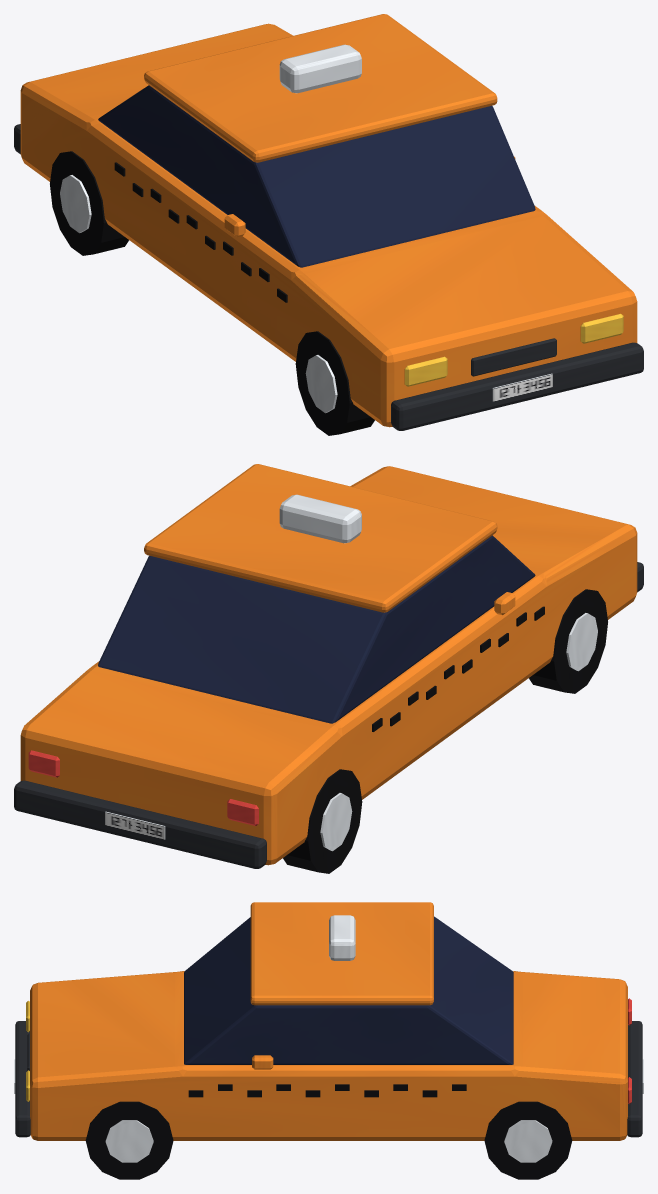
Rendered from ParkedCar_Taxi.glb.
The picture shows the model from 3 angles, top to bottom: view 1: azimuth 30°, elevation 25°; view 2: azimuth 150°, elevation 25°; view 3: azimuth 270°, elevation 25°; orthographic projection. The views are drawn at different scales.
Visible parts, largest first — view 1: Body, Glass, Details, Wheels, TaxiSign; view 2: Body, Glass, Details, Wheels, TaxiSign; view 3: Body, Glass, Wheels, Details, TaxiSign.
Part boxes in pixels (<box>): Body: <box>20,14,637,427</box>; Glass: <box>98,85,535,267</box>; Details: <box>14,124,643,430</box>; Wheels: <box>50,151,374,435</box>; TaxiSign: <box>114,44,361,302</box>; Body: <box>20,464,637,865</box>; Glass: <box>98,535,535,723</box>; Details: <box>14,562,643,868</box>; Wheels: <box>283,589,607,873</box>; TaxiSign: <box>279,494,544,731</box>; Body: <box>30,902,627,1140</box>; Glass: <box>184,916,513,1064</box>; Wheels: <box>85,1101,572,1179</box>; Details: <box>14,998,643,1137</box>; TaxiSign: <box>188,915,466,1097</box>.
Bounding box in the file's own units: 1.98 × 1.67 × 4.74.
Materials: 1 (1 with a texture image).
